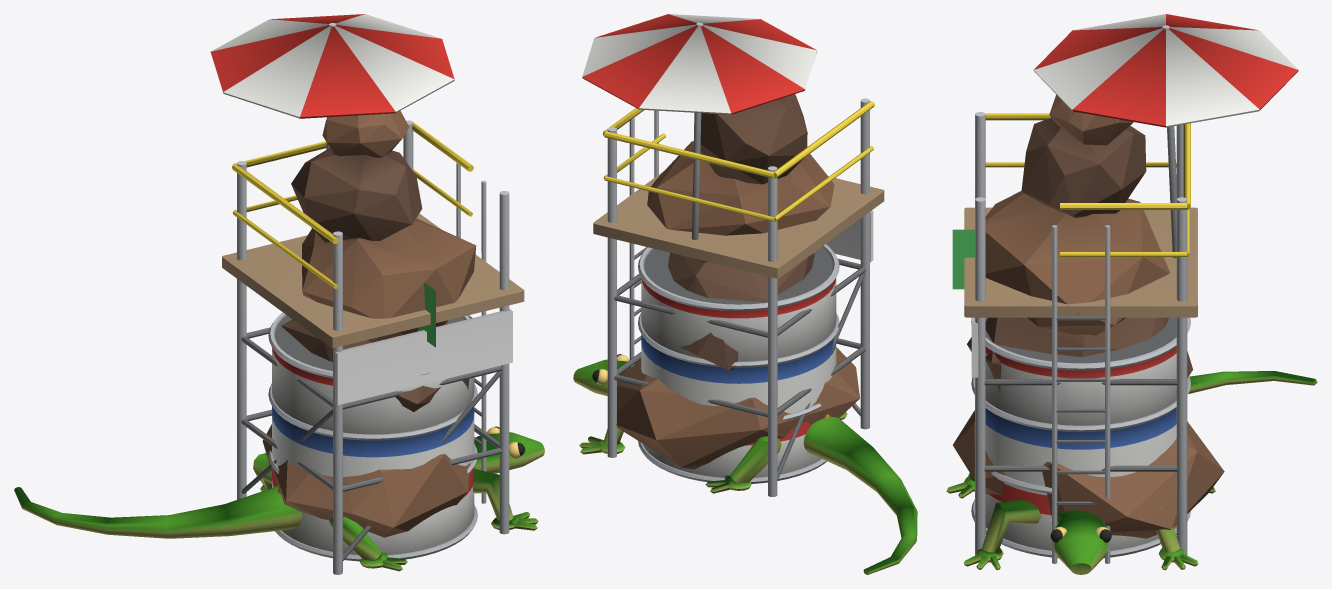
Rendered from props.glb.
The picture shows the model from 3 angles, left to right: view 1: azimuth 30°, elevation 25°; view 2: azimuth 150°, elevation 25°; view 3: azimuth 270°, elevation 25°; orthographic projection. The views are drawn at different scales.
Visible parts, largest first — view 1: StartTower, RockPillar, Drum, Lizard; view 2: StartTower, RockPillar, Drum, Lizard; view 3: StartTower, RockPillar, Drum, Lizard, FlagCloth.
Part boxes in pixels (x1=…): StartTower: x1=210, y1=14, x2=524, y2=574; RockPillar: x1=262, y1=110, x2=476, y2=537; Drum: x1=268, y1=312, x2=477, y2=561; Lizard: x1=14, y1=426, x2=544, y2=571; StartTower: x1=582, y1=14, x2=884, y2=496; RockPillar: x1=616, y1=94, x2=859, y2=469; Drum: x1=638, y1=244, x2=839, y2=483; Lizard: x1=573, y1=354, x2=917, y2=574; StartTower: x1=964, y1=14, x2=1298, y2=563; RockPillar: x1=953, y1=94, x2=1224, y2=538; Drum: x1=971, y1=317, x2=1190, y2=558; Lizard: x1=946, y1=371, x2=1317, y2=574; FlagCloth: x1=952, y1=229, x2=974, y2=289.
Size of the model in its own units: 4.88 by 5.24 by 3.5.
